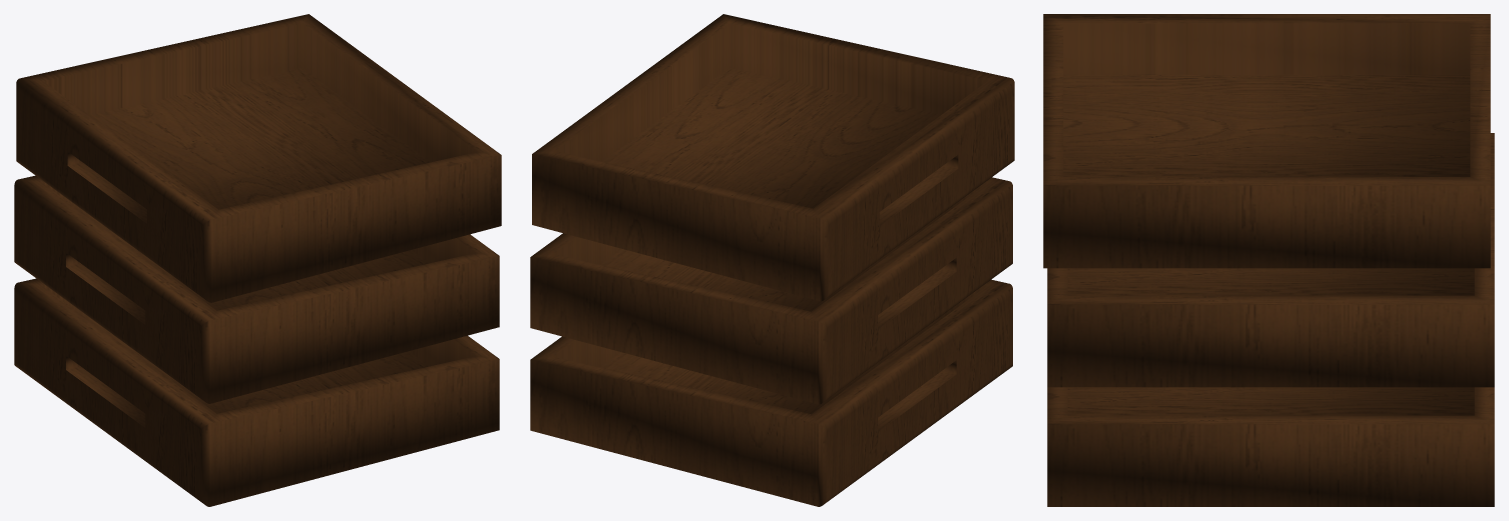
Rendered from Drawers.fbx.
3 views of the same model, side by side, from view 1: azimuth 30°, elevation 25°; view 2: azimuth 150°, elevation 25°; view 3: azimuth 270°, elevation 25° (orthographic). The views are drawn at different scales.
Visible parts, largest first — view 1: Drawers_1, Drawers_3, Drawers_2; view 2: Drawers_1, Drawers_2, Drawers_3; view 3: Drawers_1, Drawers_2, Drawers_3.
Part boxes in pixels (<box>): Drawers_1: <box>16,14,501,302</box>; Drawers_3: <box>14,278,499,506</box>; Drawers_2: <box>14,175,499,403</box>; Drawers_1: <box>532,14,1014,301</box>; Drawers_2: <box>530,177,1012,404</box>; Drawers_3: <box>530,279,1012,506</box>; Drawers_1: <box>1043,14,1490,268</box>; Drawers_2: <box>1047,133,1494,387</box>; Drawers_3: <box>1047,387,1494,506</box>.
Bounding box in the file's own units: 52.49 × 49.03 × 59.8.
